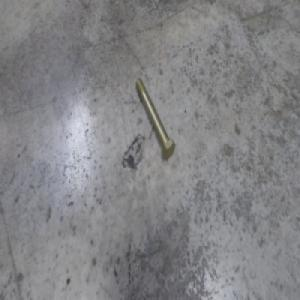Bolt: (133, 77, 174, 162)
